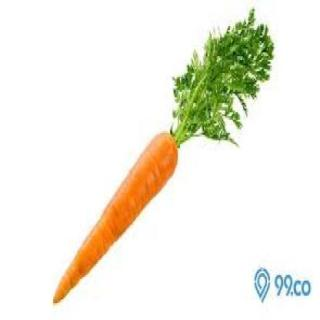Wortel: (52, 130, 178, 303)
